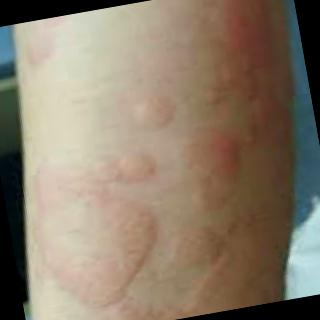urticaria: (31, 201, 158, 284), (173, 226, 245, 309), (199, 114, 239, 206), (98, 141, 165, 183), (109, 100, 182, 131)
